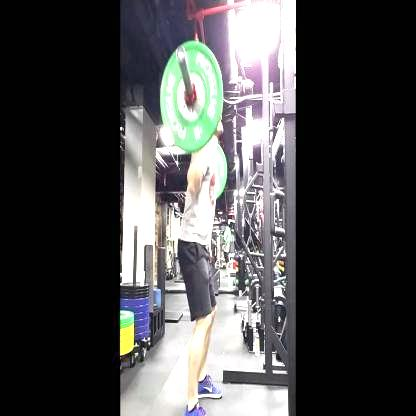Barbell: (176, 45, 187, 67)
